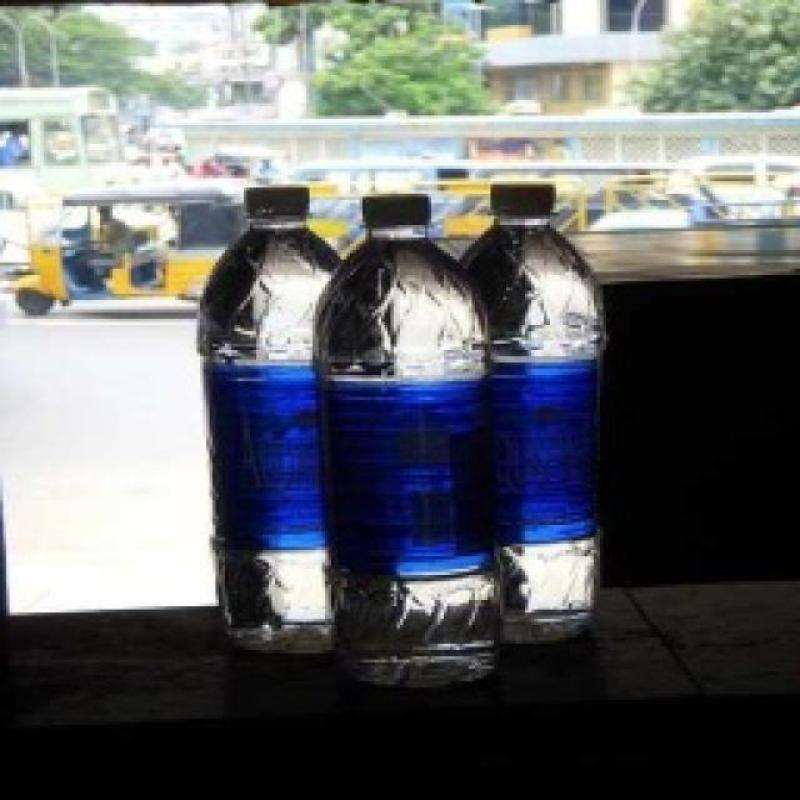botella: (315, 195, 500, 680), (198, 185, 342, 654), (461, 184, 604, 638)
